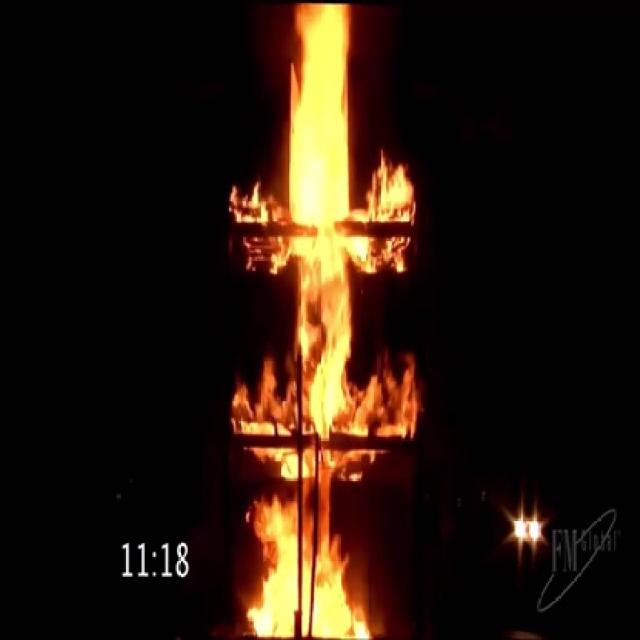Fire: (217, 0, 434, 640)
